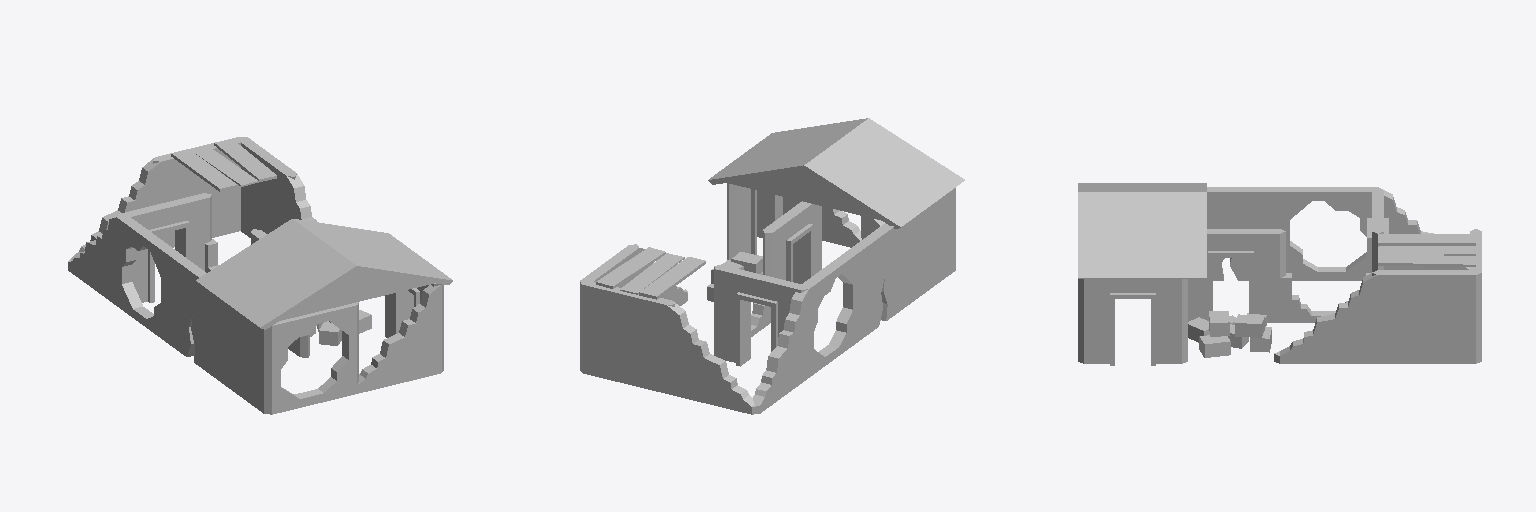
Rendered from Casa 8 Semi Rota.obj.
3 views of the same model, side by side, from view 1: azimuth 30°, elevation 25°; view 2: azimuth 150°, elevation 25°; view 3: azimuth 270°, elevation 25° (orthographic).
Size of the model in its own units: 2.28 by 1.44 by 4.12.